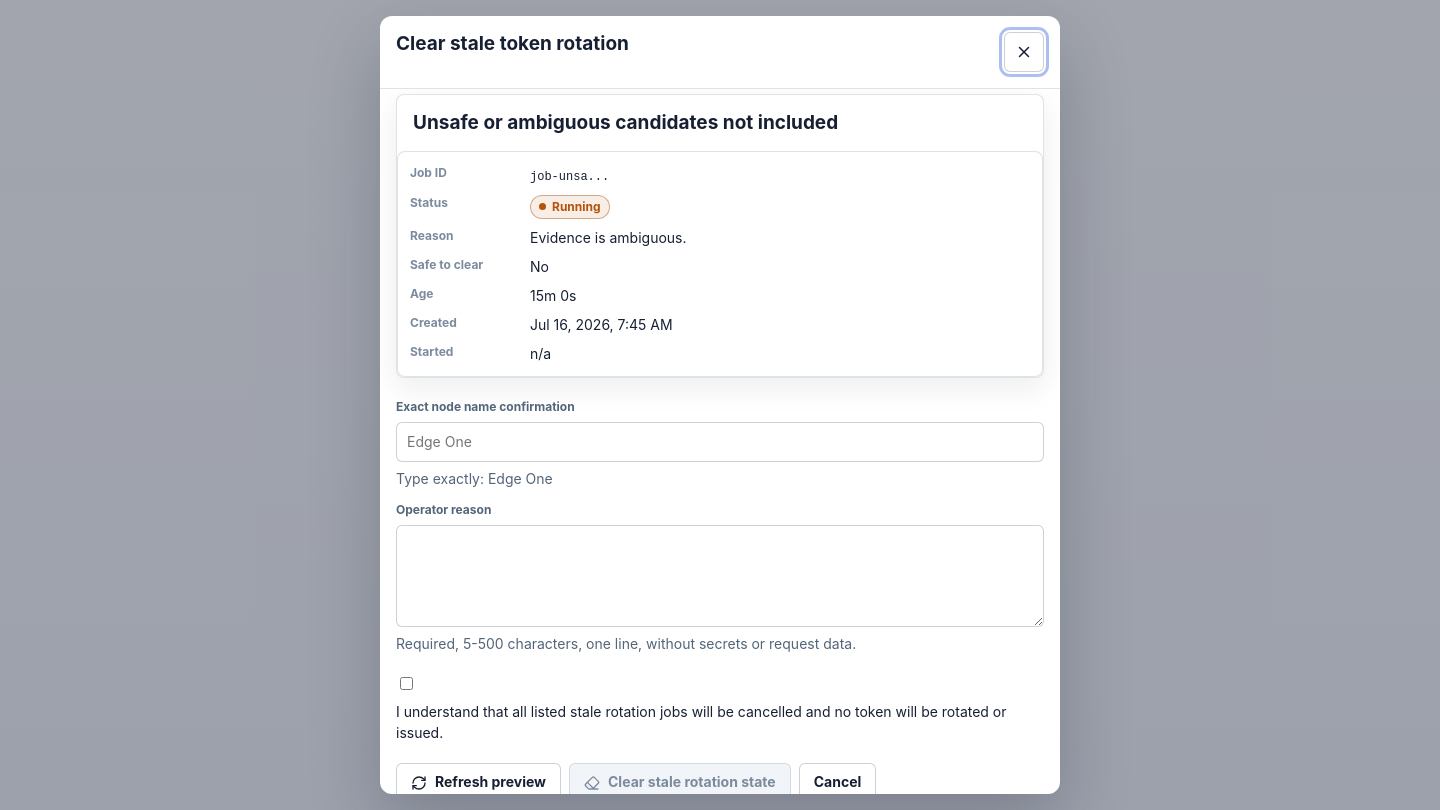
Scenario: NodeStaleRotationClearDialog › validates exact confirmation, secret-safe reason and explicit acknowledgement
(page scrolled)
In the field labelled "Exact node name confirmation": (720, 442) x1=396 y1=422 x2=1044 y2=462, type "edge one"
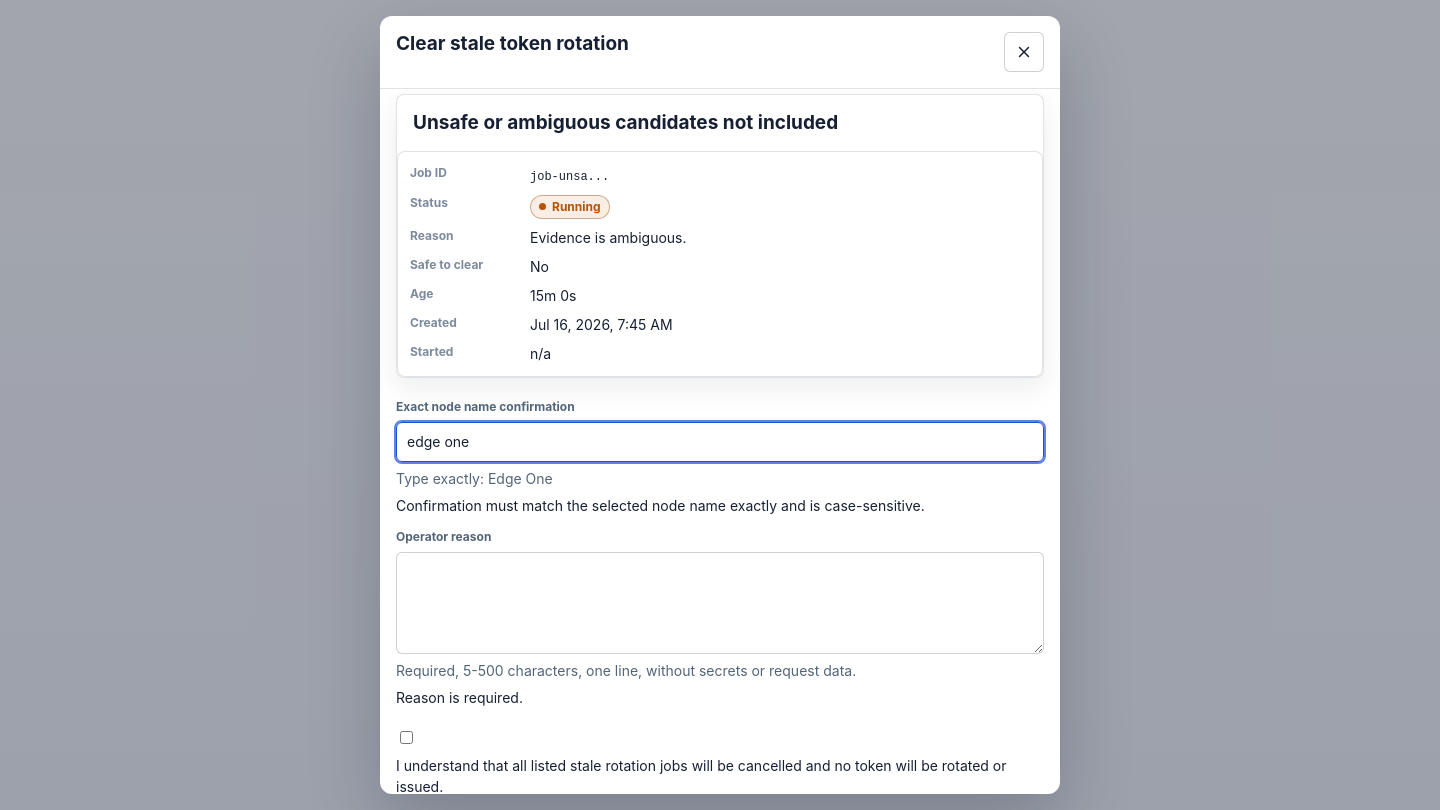
In the text box labelled "Operator reason": (720, 602) x1=396 y1=552 x2=1044 y2=654, type "Authorization: Bearer token"
(page scrolled)
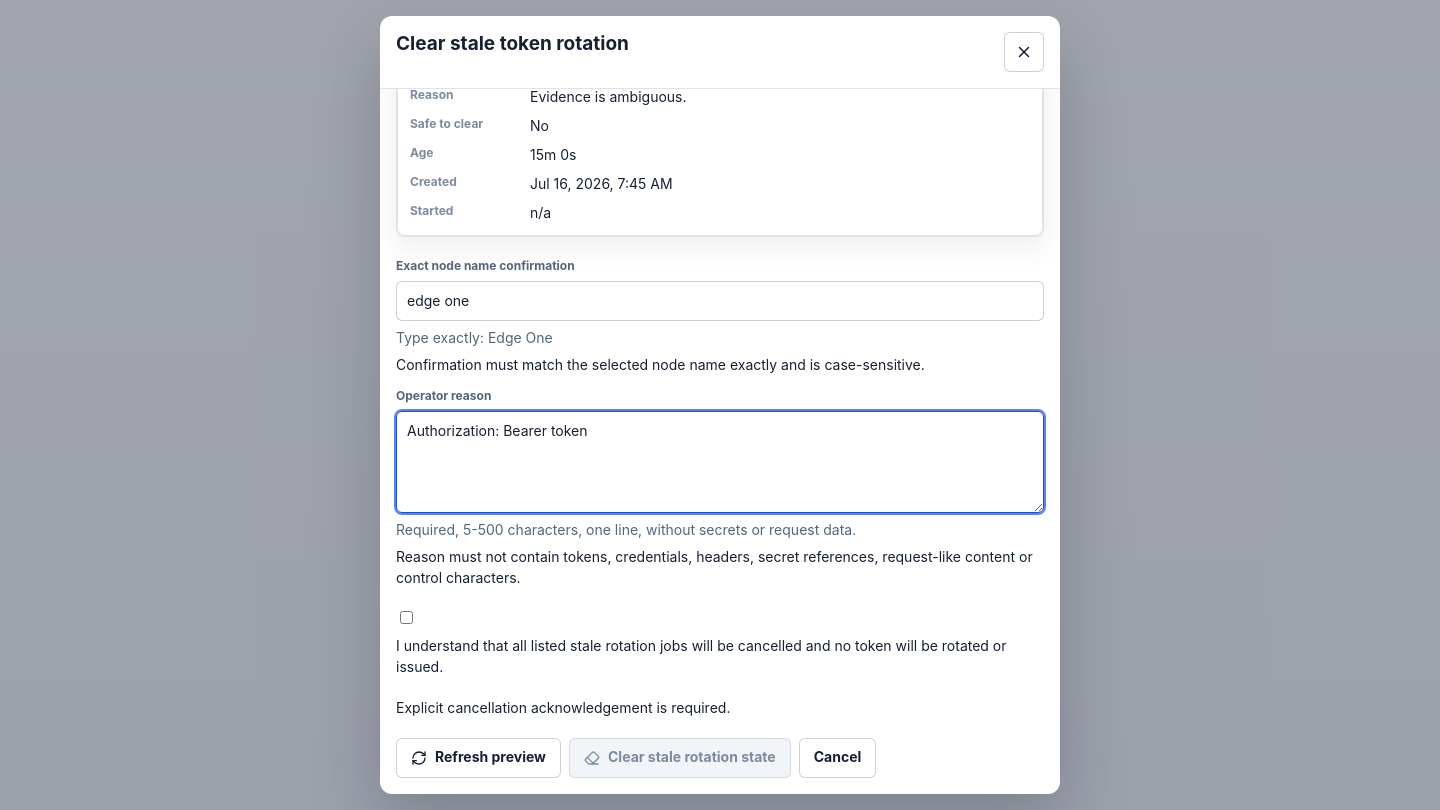
Now the text "Confirmation must match the selected node name exactly and is case-sensitive." is shown, box x1=396 y1=356 x2=925 y2=372
Now the text "must not contain tokens, credentials" is shown, box x1=396 y1=548 x2=1033 y2=586
Now the button "Clear stale rotation state" is disabled, box x1=569 y1=738 x2=791 y2=778
